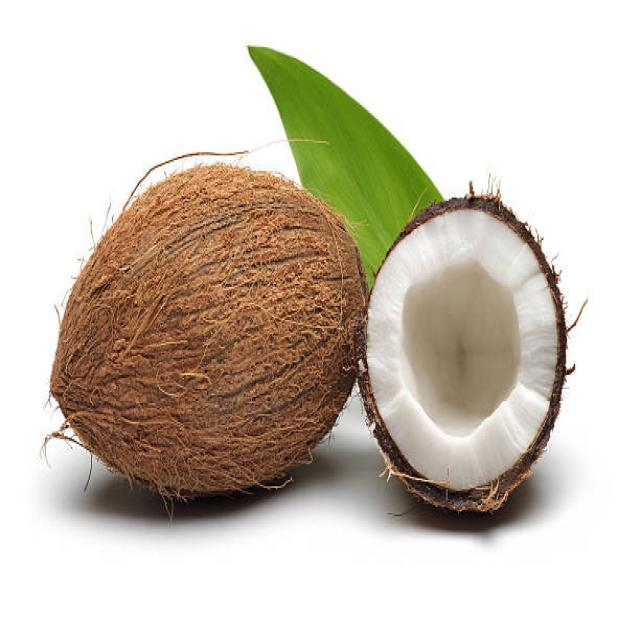coconut: (46, 156, 356, 505), (361, 191, 565, 520)
